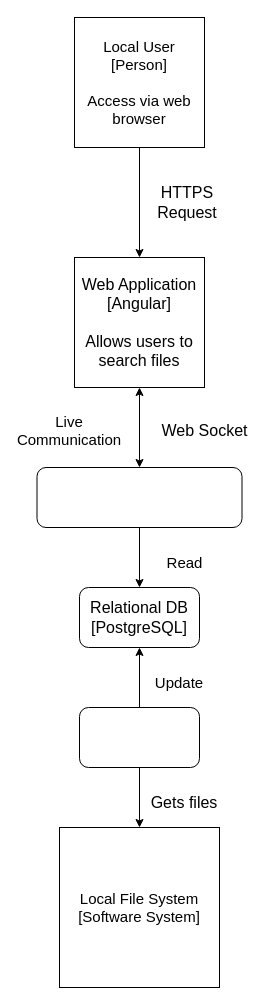
Image size: 276x1005. Some labels were removed from this diagram. Each missing label, with the box of its shape:
API [C++ w/ uWebSockets]: (36, 466, 242, 528)
Index Builder [C++]: (78, 706, 200, 768)
